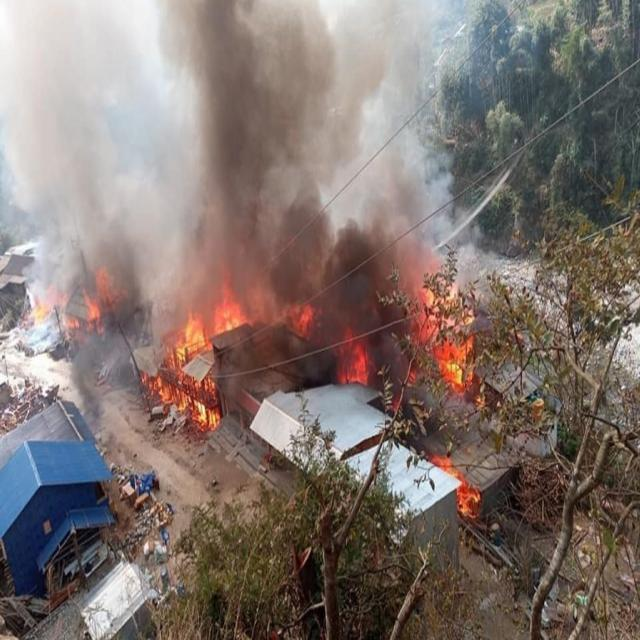Fire: (154, 318, 220, 432), (433, 454, 486, 519)
Smoke: (5, 4, 422, 246)
